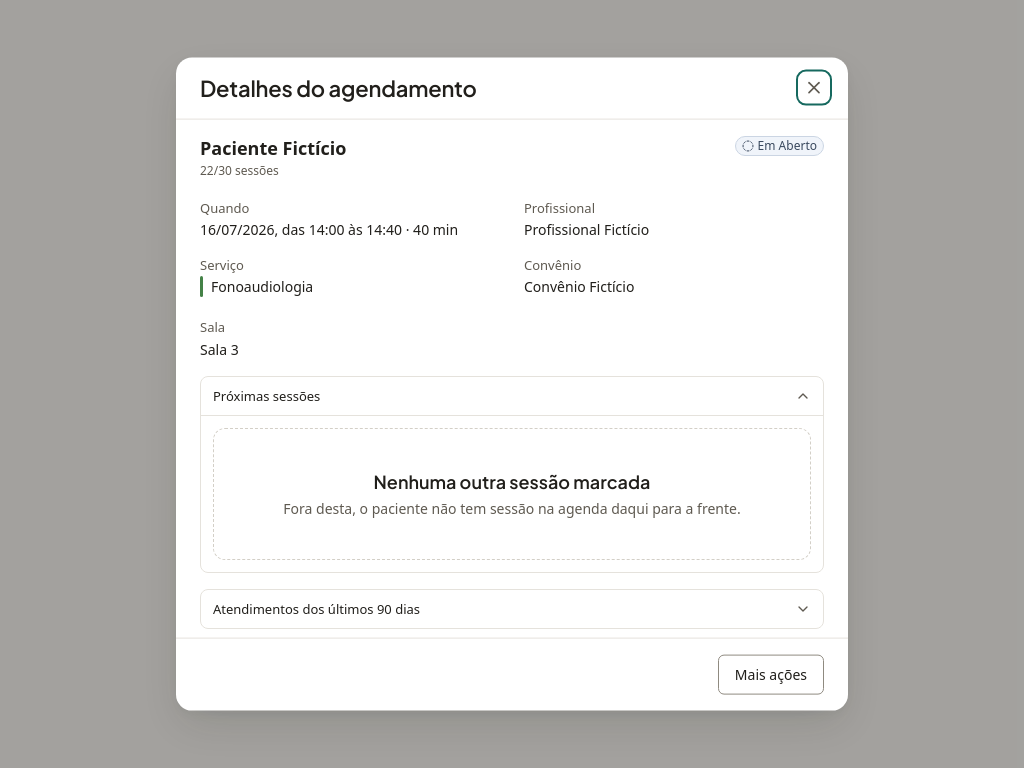
Scenario: PainelAgendamento — ações derivadas do status/estado/permissão (3.2) › deve mostrar só o Histórico (sem Editar/Excluir) para quem tem apenas agenda.ver + auditoria.ver
What coordinates should you click on to do the following:
click the button "Mais ações"
I would click on:
 (771, 674)
Its box is [718, 654, 824, 694].
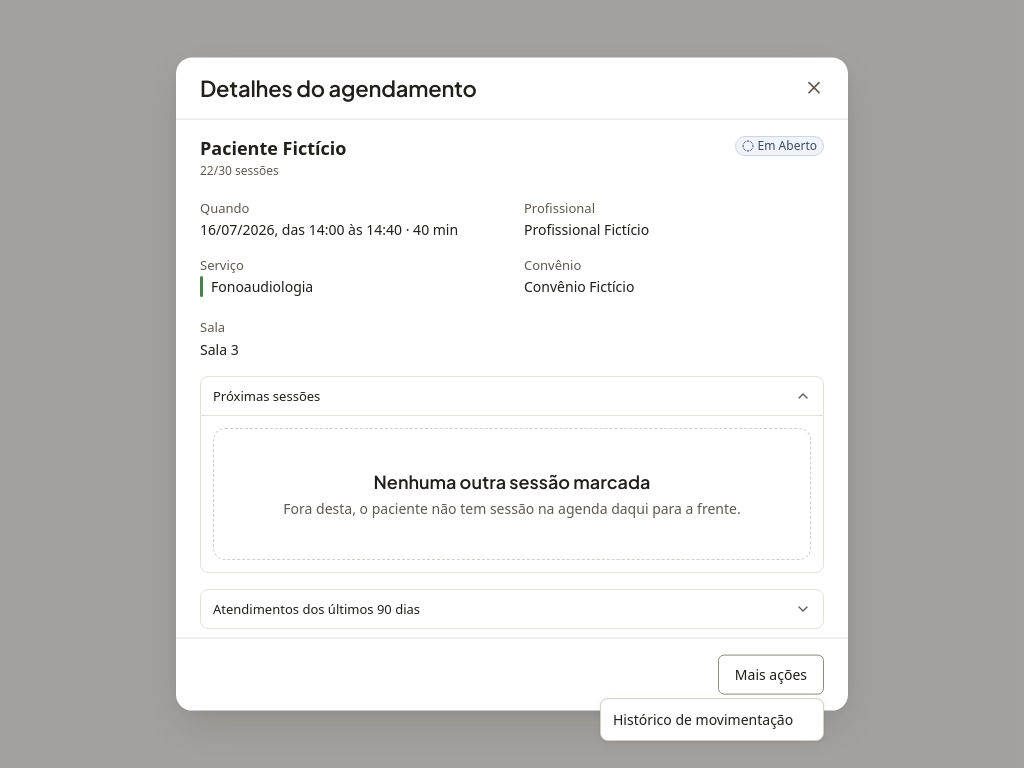
Expected: the menu item "Histórico de movimentação" is shown, [613, 710, 793, 729]
